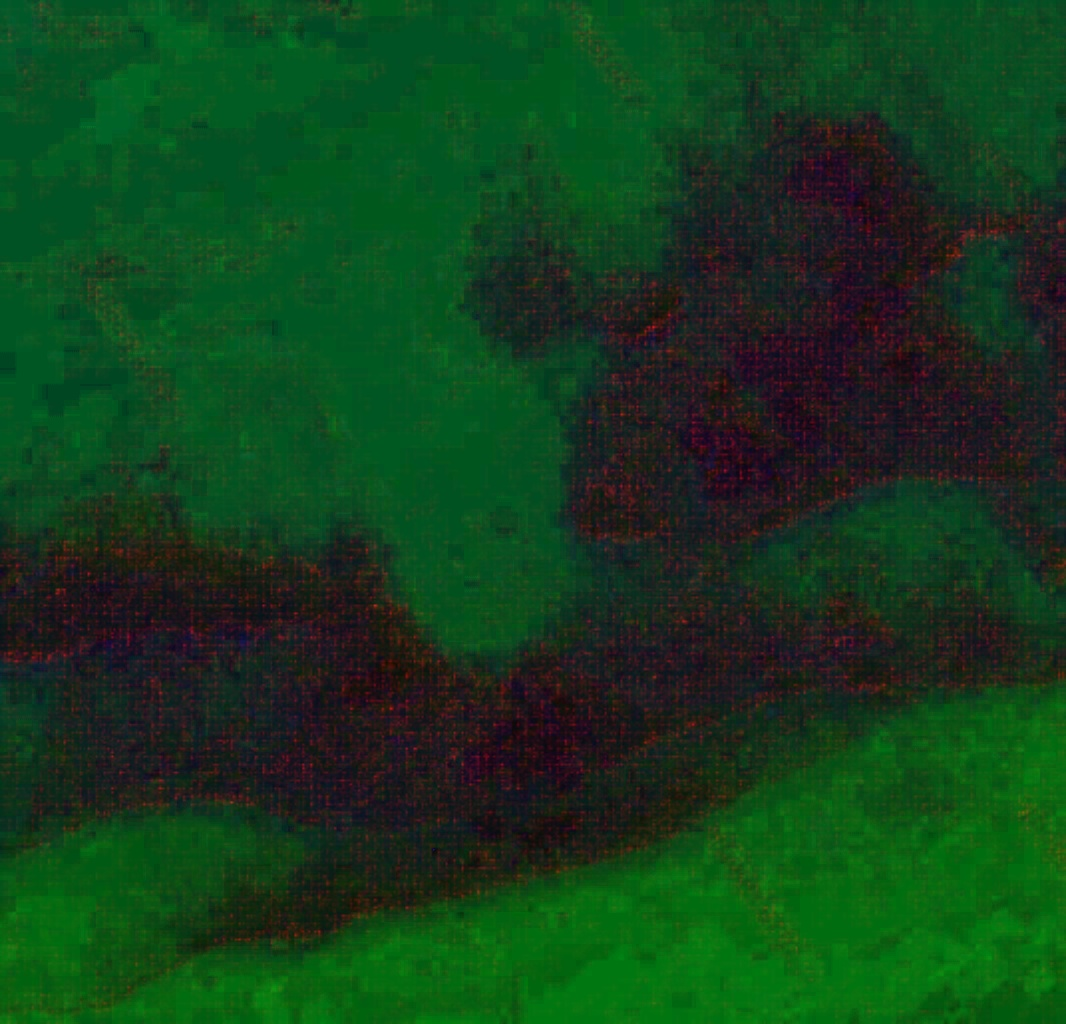rip_current: (275, 352, 694, 703)
